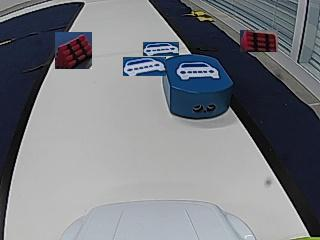safety: (176, 61, 221, 80)
